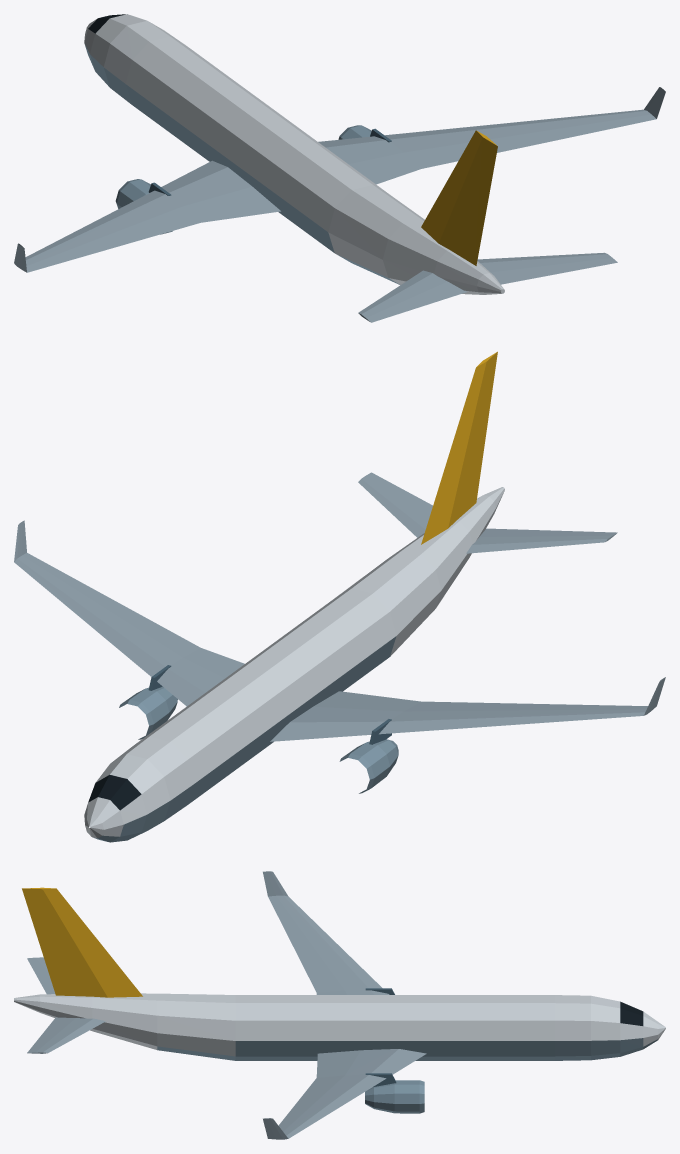
3 views of the same model, one above another, from view 1: azimuth 30°, elevation 25°; view 2: azimuth 150°, elevation 25°; view 3: azimuth 270°, elevation 25° (orthographic). The views are drawn at different scales.
Visible parts, largest first — view 1: lod0; view 2: lod0; view 3: lod0.
Part boxes in pixels (x1,y1,x2,y2): lod0: (14, 14, 665, 322); lod0: (14, 351, 665, 842); lod0: (14, 871, 665, 1139).
Size of what is drawn, in the model's own units: 0.8959 by 0.3056 by 1.
